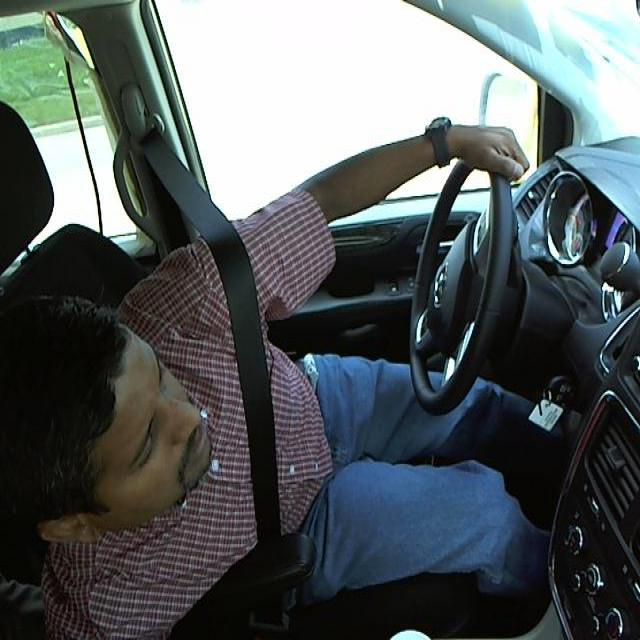seatbelt: (205, 247, 305, 597)
